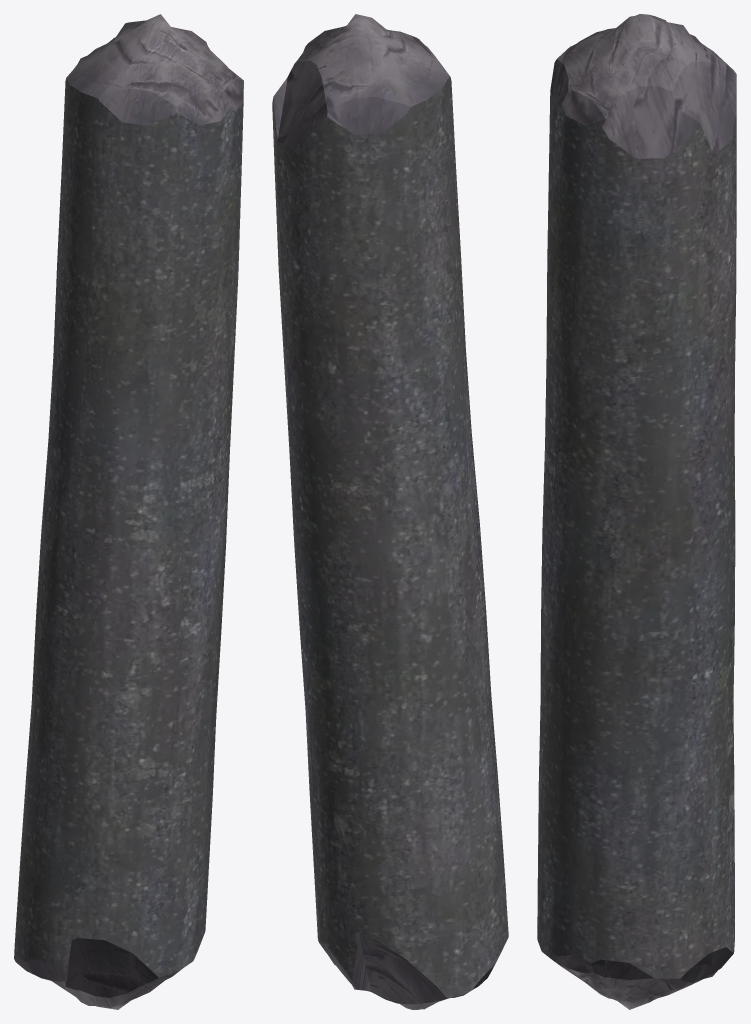
3 renders of one model, left to right at view 1: azimuth 30°, elevation 25°; view 2: azimuth 150°, elevation 25°; view 3: azimuth 270°, elevation 25°, orthographic. The views are drawn at different scales.
Parts seen in each view (by area): view 1: SM_FH_Ash_Tree_02_half_top_LOD0; view 2: SM_FH_Ash_Tree_02_half_top_LOD0; view 3: SM_FH_Ash_Tree_02_half_top_LOD0.
Part boxes in pixels (<box>): SM_FH_Ash_Tree_02_half_top_LOD0: <box>14,14,243,1009</box>; SM_FH_Ash_Tree_02_half_top_LOD0: <box>272,14,508,1009</box>; SM_FH_Ash_Tree_02_half_top_LOD0: <box>537,14,736,1009</box>.
Bounding box in the file's own units: 0.4736 × 2.14 × 0.3789.
